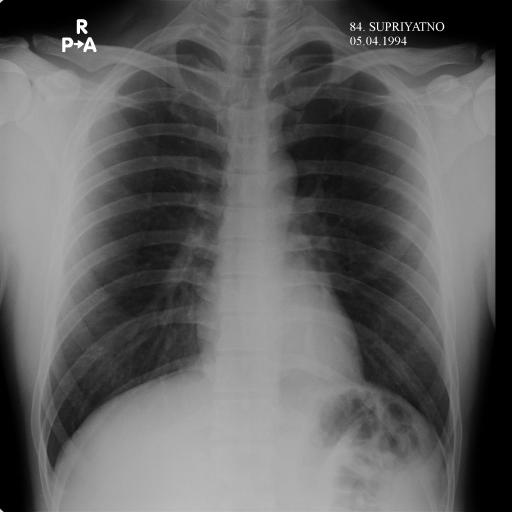normal: (30, 17, 462, 492)
